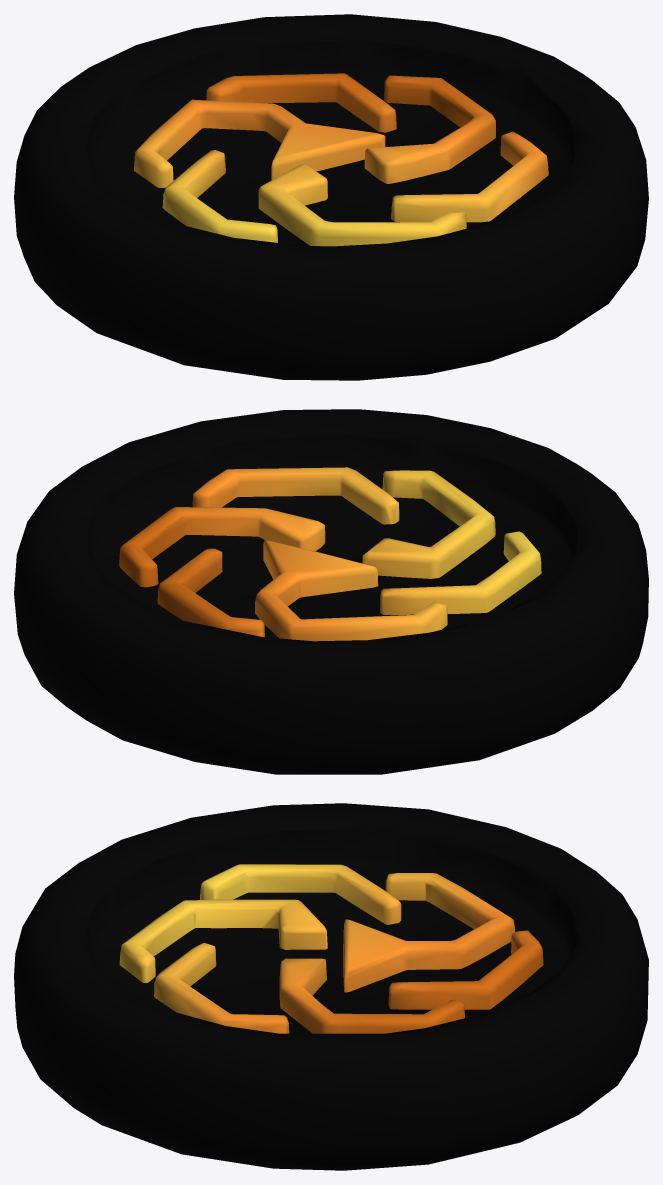
Rendered from Coin.obj.
3 views of the same model, one above another, from view 1: azimuth 30°, elevation 25°; view 2: azimuth 150°, elevation 25°; view 3: azimuth 270°, elevation 25° (orthographic).
Visible parts, largest first — view 1: LEO_Circle.002; view 2: LEO_Circle.002; view 3: LEO_Circle.002.
Boxes of the visible parts, <box> form: LEO_Circle.002: <box>14,14,648,380</box>; LEO_Circle.002: <box>14,409,648,774</box>; LEO_Circle.002: <box>14,803,648,1170</box>.
Size of the model in its own units: 3.1 by 0.6651 by 3.1.
